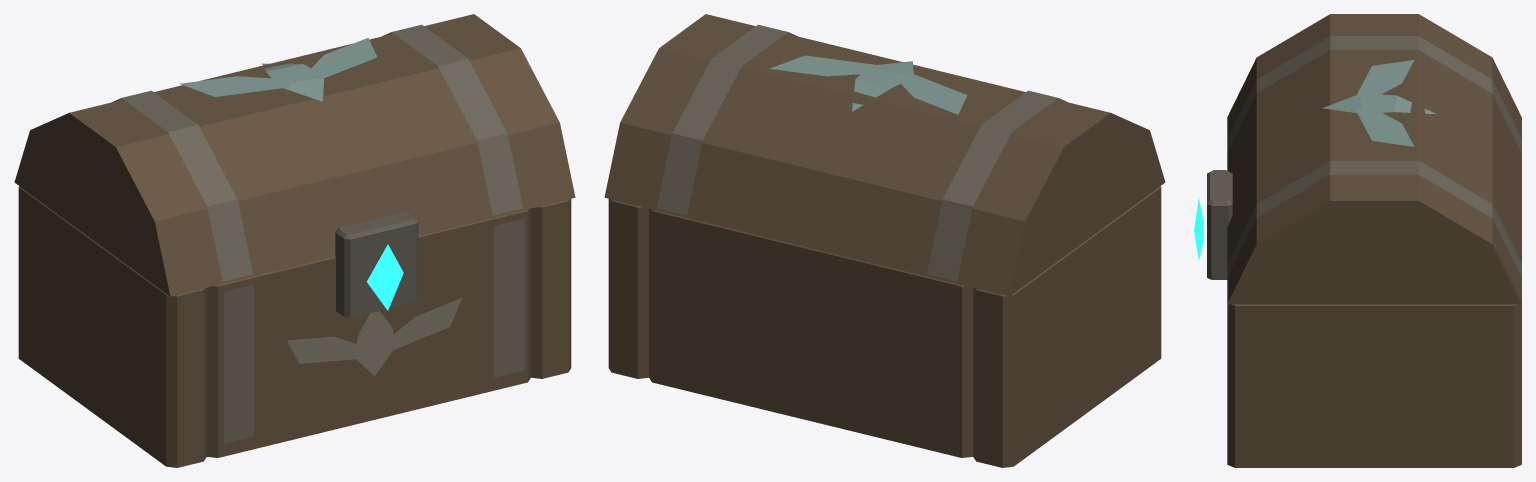
File: chest_garden.glb
3 renders of one model, left to right at view 1: azimuth 30°, elevation 25°; view 2: azimuth 150°, elevation 25°; view 3: azimuth 270°, elevation 25°, orthographic. The views are drawn at different scales.
Parts seen in each view (by area): view 1: Body_chest_garden.001, ChestLid_Barrel_Hinge, Interactive_Chest_Clasp.001; view 2: ChestLid_Barrel_Hinge, Body_chest_garden.001; view 3: ChestLid_Barrel_Hinge, Body_chest_garden.001, Interactive_Chest_Clasp.001.
Boxes of the visible parts, x1,y1,x2,y2 form: Body_chest_garden.001: (18,186,571,467); ChestLid_Barrel_Hinge: (14,14,575,296); Interactive_Chest_Clasp.001: (367,244,403,310); ChestLid_Barrel_Hinge: (604,14,1165,296); Body_chest_garden.001: (608,186,1161,467); ChestLid_Barrel_Hinge: (1227,14,1521,304); Body_chest_garden.001: (1207,170,1521,467); Interactive_Chest_Clasp.001: (1194,198,1203,260).
Bounding box in the file's own units: 1.2 × 0.812 × 0.89.
